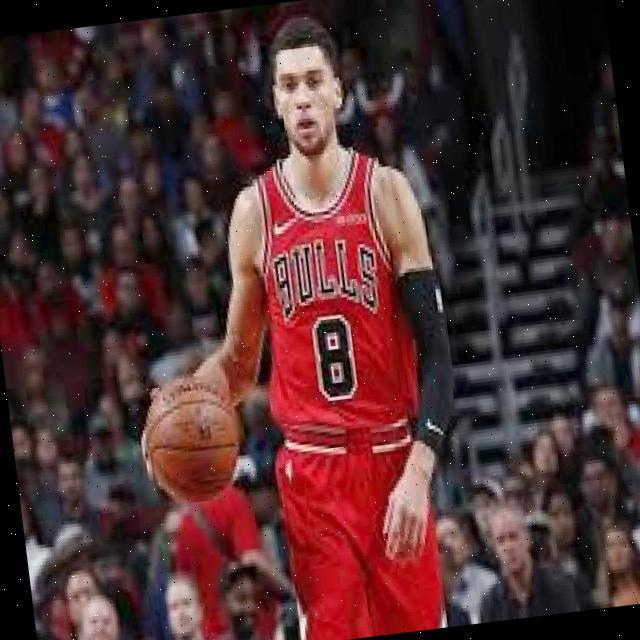ball: (139, 374, 244, 506)
